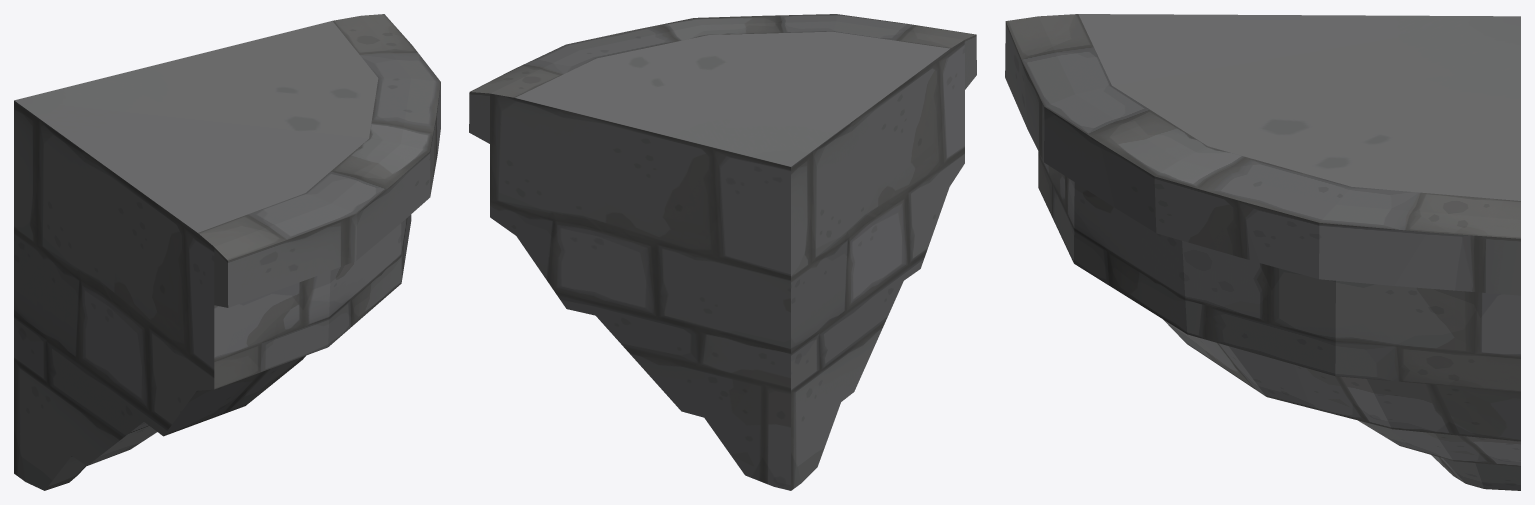
Rendered from SM_Bld_Wall_L_Curve_Base_03.fbx.
The picture shows the model from 3 angles, left to right: view 1: azimuth 30°, elevation 25°; view 2: azimuth 150°, elevation 25°; view 3: azimuth 270°, elevation 25°; orthographic projection. The views are drawn at different scales.
Visible parts, largest first — view 1: SM_Bld_Wall_L_Curve_Base_03; view 2: SM_Bld_Wall_L_Curve_Base_03; view 3: SM_Bld_Wall_L_Curve_Base_03.
Part boxes in pixels (x1=…): SM_Bld_Wall_L_Curve_Base_03: x1=14, y1=14, x2=440, y2=490; SM_Bld_Wall_L_Curve_Base_03: x1=469, y1=14, x2=976, y2=490; SM_Bld_Wall_L_Curve_Base_03: x1=1005, y1=14, x2=1520, y2=490.
Size of the model in its own units: 394 by 381 by 394.
